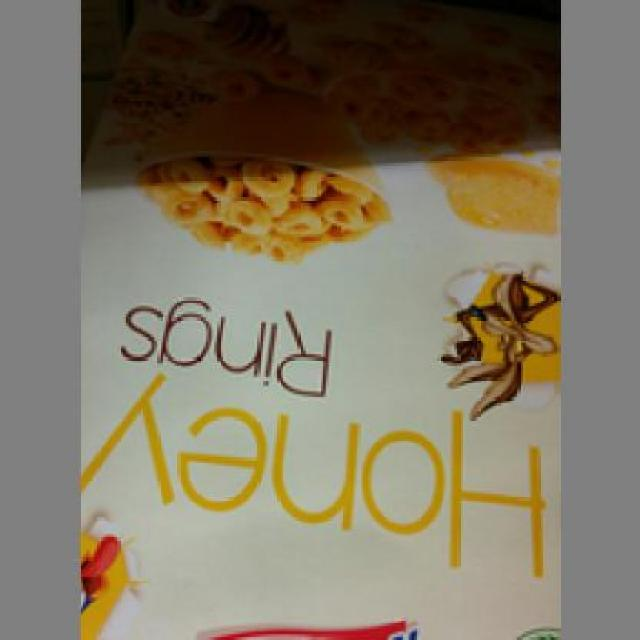Cereal: (80, 145, 557, 638)
